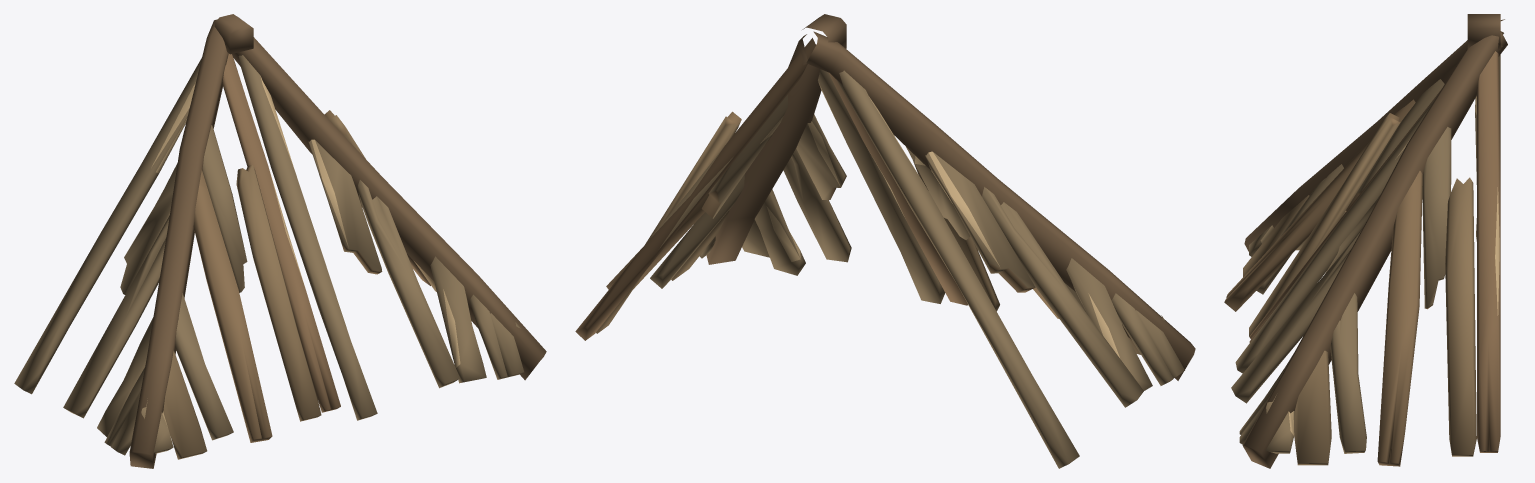
Rendered from rpgpp_av_roof_02_6x5x3_end_02.gltf.
The picture shows the model from 3 angles, left to right: view 1: azimuth 30°, elevation 25°; view 2: azimuth 150°, elevation 25°; view 3: azimuth 270°, elevation 25°; orthographic projection. The views are drawn at different scales.
Visible parts, largest first — view 1: rpgpp_av_roof_02_6x5x3_end_02; view 2: rpgpp_av_roof_02_6x5x3_end_02; view 3: rpgpp_av_roof_02_6x5x3_end_02.
Boxes of the visible parts, bbox=[...] form: rpgpp_av_roof_02_6x5x3_end_02: bbox=[14, 14, 546, 468]; rpgpp_av_roof_02_6x5x3_end_02: bbox=[575, 14, 1195, 468]; rpgpp_av_roof_02_6x5x3_end_02: bbox=[1224, 14, 1507, 468].
Bounding box in the file's own units: 0.0751 × 0.0529 × 0.0408.
1 material, 1 textured.
